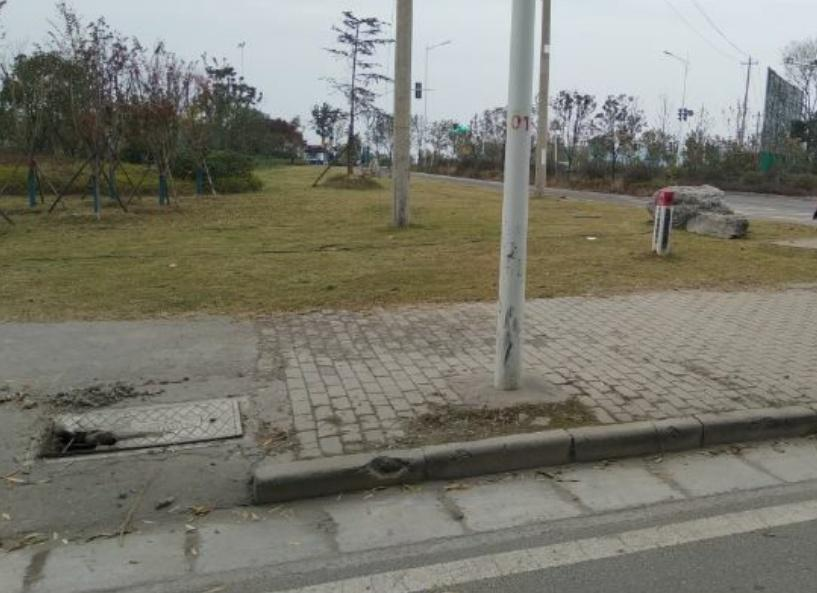wellcover: (27, 398, 255, 459)
